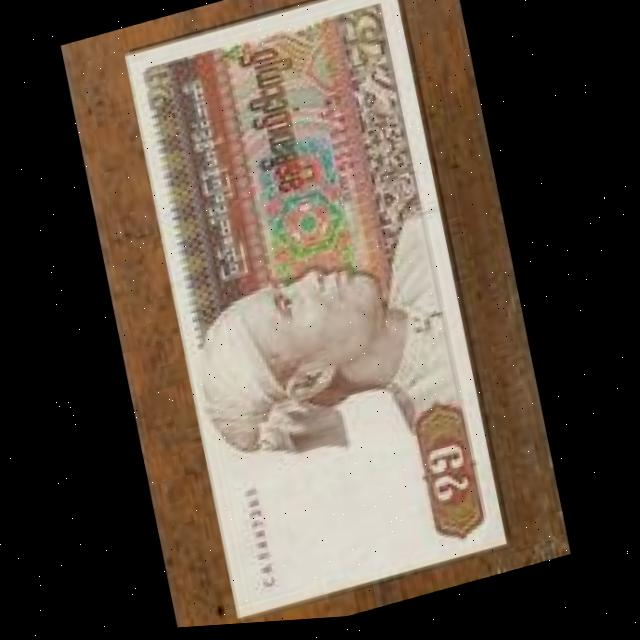banknote: (117, 0, 512, 625)
